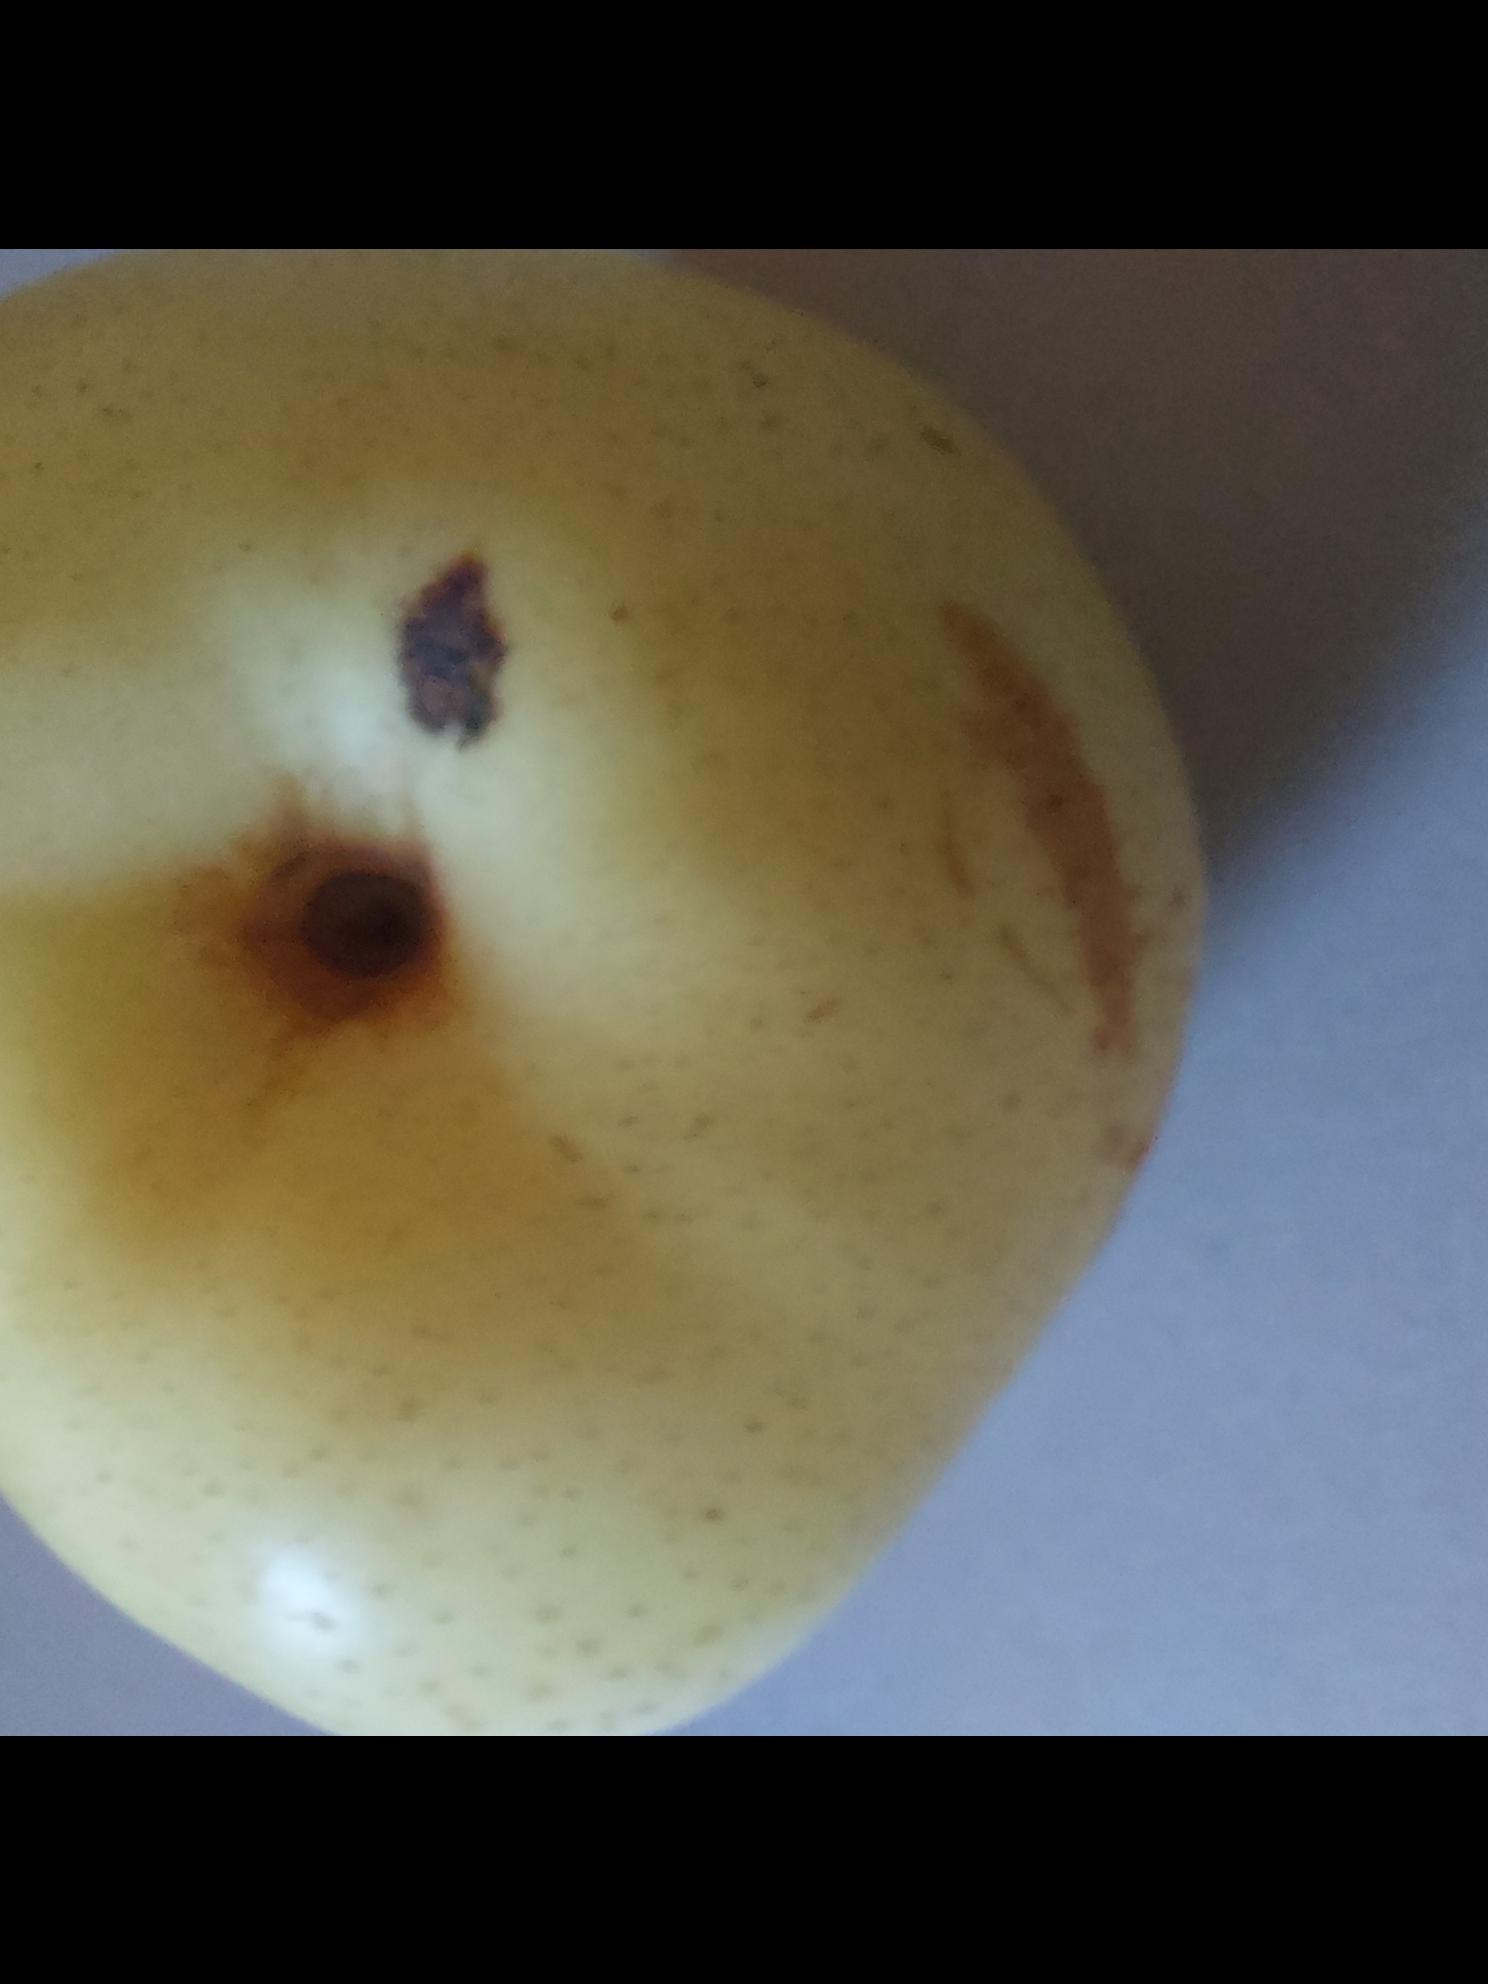Good Pear: (0, 248, 1289, 1736)
